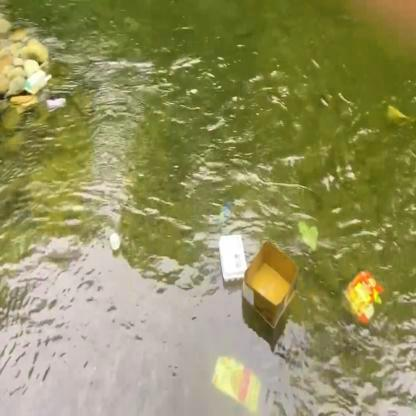Plastic: (212, 228, 251, 288), (44, 93, 70, 115)
Trash: (5, 90, 41, 118), (108, 230, 122, 252)
